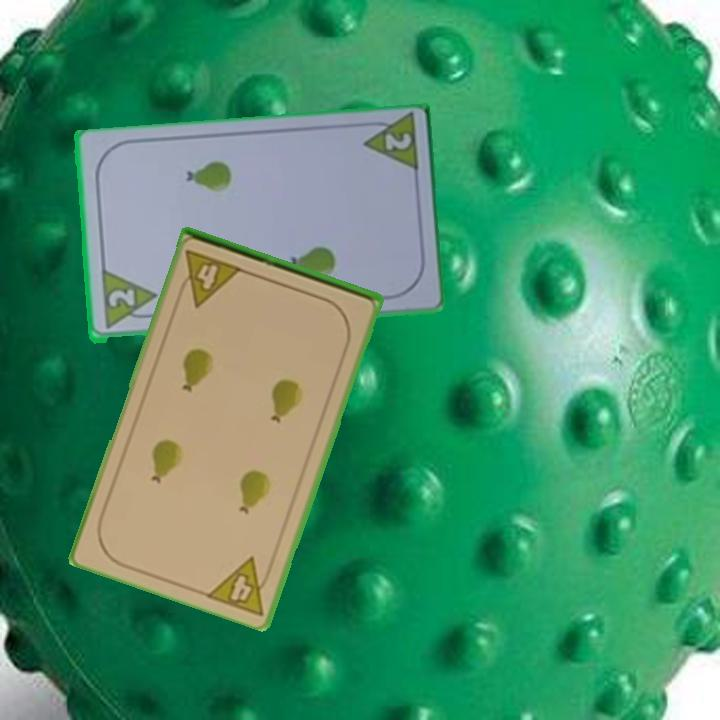2p: (356, 113, 421, 178), (97, 269, 160, 333)
4p: (203, 553, 278, 619), (173, 247, 246, 309)
